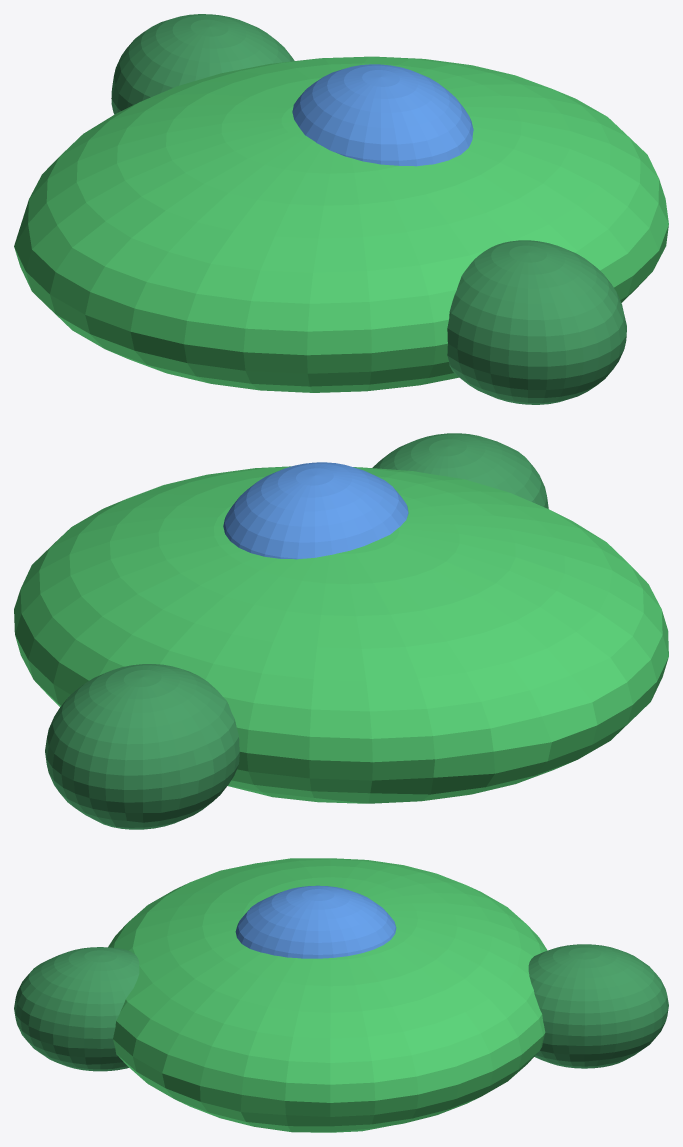
File: blob2.glb
3 renders of one model, top to bottom at view 1: azimuth 30°, elevation 25°; view 2: azimuth 150°, elevation 25°; view 3: azimuth 270°, elevation 25°, orthographic. The views are drawn at different scales.
Visible parts, largest first — view 1: Sphere, Sphere.001, Sphere.002, Sphere.003; view 2: Sphere, Sphere.003, Sphere.002, Sphere.001; view 3: Sphere, Sphere.003, Sphere.001, Sphere.002.
Boxes of the visible parts, <box> form: Sphere: <box>14,56,668,392</box>; Sphere.001: <box>447,240,626,404</box>; Sphere.002: <box>292,64,473,166</box>; Sphere.003: <box>111,14,294,114</box>; Sphere: <box>14,466,668,803</box>; Sphere.003: <box>45,664,239,829</box>; Sphere.002: <box>223,462,408,559</box>; Sphere.001: <box>372,433,548,508</box>; Sphere: <box>108,858,547,1132</box>; Sphere.003: <box>528,944,668,1068</box>; Sphere.001: <box>14,947,139,1071</box>; Sphere.002: <box>235,885,396,958</box>.
Bounding box in the file's own units: 3.51 × 1.46 × 4.41.
